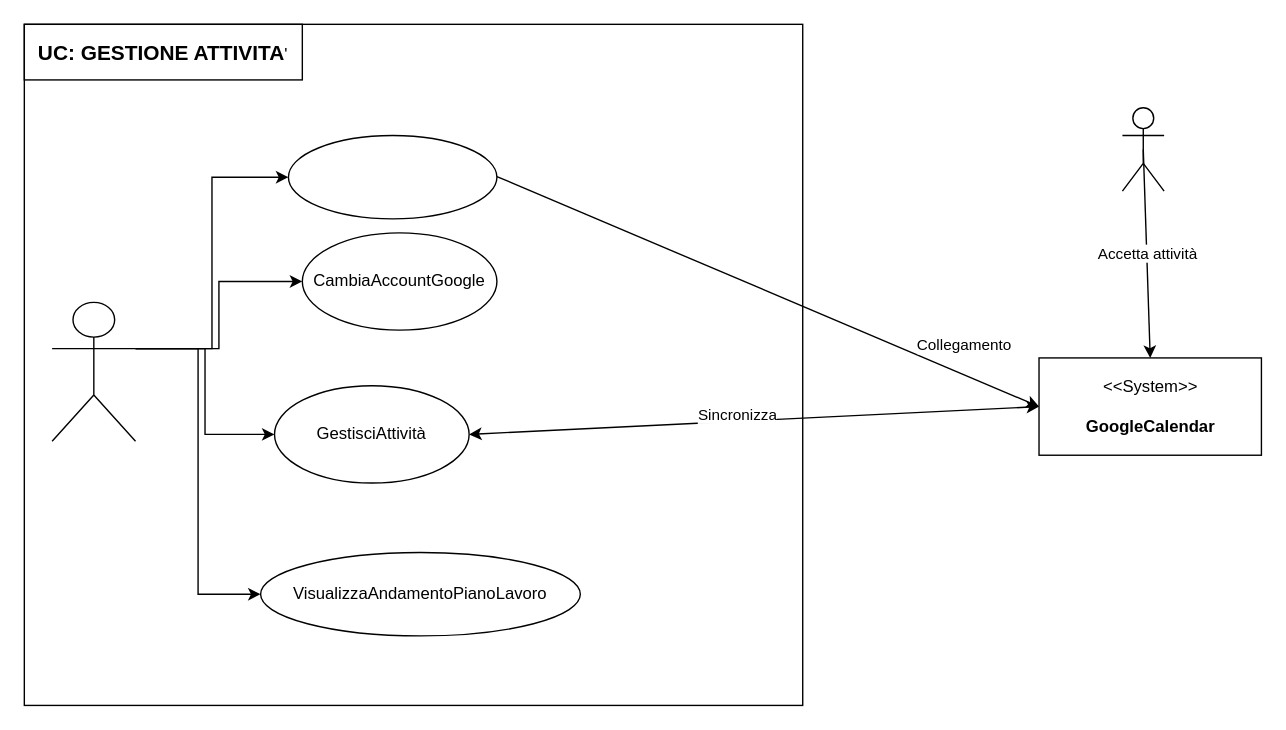
The diagram is 1286 pixels wide and 730 high, and some of its shapes have lost their labels. The centre of each missing label's shape, as x and y in pixels:
"ApriGoogleCalendar" goes at (x=392, y=176).
"Lavoratore" goes at (x=1142, y=148).
"Utente" goes at (x=93, y=371).
